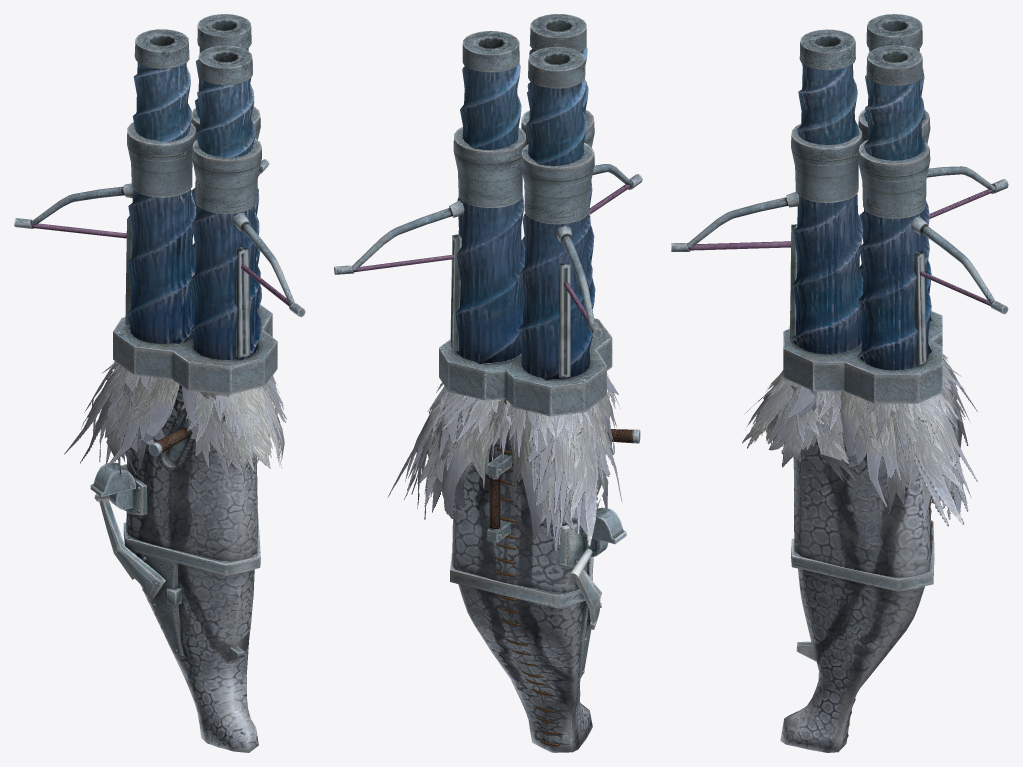
The model's file is lbg002.obj.
The picture shows the model from 3 angles, left to right: view 1: azimuth 30°, elevation 25°; view 2: azimuth 150°, elevation 25°; view 3: azimuth 270°, elevation 25°; orthographic projection. The views are drawn at different scales.
Parts seen in each view (by area): view 1: lbg002_002_LOD_1, lbg002_001_LOD_1, lbg002_008_LOD_1, lbg002_010_LOD_1, lbg002_005_LOD_1, lbg002_003_LOD_1, lbg002_009_LOD_1, lbg002_000_LOD_1, lbg002_004_LOD_1, lbg002_006_LOD_1; view 2: lbg002_002_LOD_1, lbg002_001_LOD_1, lbg002_003_LOD_1, lbg002_008_LOD_1, lbg002_010_LOD_1, lbg002_004_LOD_1, lbg002_009_LOD_1, lbg002_000_LOD_1; view 3: lbg002_002_LOD_1, lbg002_001_LOD_1, lbg002_008_LOD_1, lbg002_003_LOD_1, lbg002_010_LOD_1, lbg002_005_LOD_1, lbg002_009_LOD_1, lbg002_004_LOD_1, lbg002_000_LOD_1, lbg002_006_LOD_1.
Part boxes in pixels (x1,y1,x2,y2): lbg002_002_LOD_1: [14, 159, 305, 752]; lbg002_001_LOD_1: [126, 187, 262, 359]; lbg002_008_LOD_1: [132, 29, 255, 158]; lbg002_010_LOD_1: [127, 106, 261, 213]; lbg002_005_LOD_1: [181, 376, 286, 477]; lbg002_003_LOD_1: [64, 361, 285, 476]; lbg002_009_LOD_1: [197, 14, 252, 85]; lbg002_000_LOD_1: [125, 216, 250, 358]; lbg002_004_LOD_1: [80, 369, 275, 474]; lbg002_006_LOD_1: [200, 382, 276, 469]; lbg002_002_LOD_1: [334, 164, 642, 752]; lbg002_001_LOD_1: [455, 180, 595, 380]; lbg002_003_LOD_1: [387, 382, 622, 546]; lbg002_008_LOD_1: [460, 46, 588, 165]; lbg002_010_LOD_1: [453, 110, 594, 224]; lbg002_004_LOD_1: [404, 398, 611, 551]; lbg002_009_LOD_1: [462, 14, 586, 72]; lbg002_000_LOD_1: [450, 234, 570, 377]; lbg002_002_LOD_1: [671, 166, 1008, 752]; lbg002_001_LOD_1: [791, 193, 931, 370]; lbg002_008_LOD_1: [797, 14, 925, 160]; lbg002_003_LOD_1: [842, 354, 977, 524]; lbg002_010_LOD_1: [791, 109, 930, 218]; lbg002_005_LOD_1: [742, 370, 857, 483]; lbg002_009_LOD_1: [799, 29, 922, 86]; lbg002_004_LOD_1: [840, 382, 968, 526]; lbg002_000_LOD_1: [789, 224, 926, 365]; lbg002_006_LOD_1: [764, 385, 860, 484].
Bounding box in the file's own units: 52.35 × 135 × 58.27.
